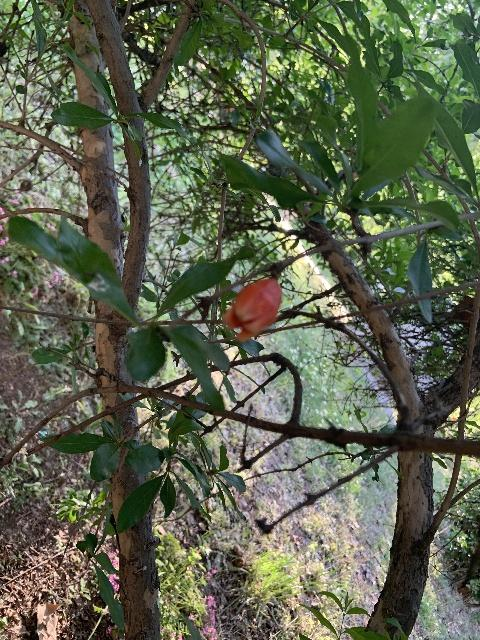flower: (223, 276, 283, 342)
